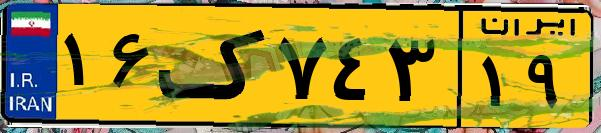1: (57, 26, 110, 100), (475, 38, 525, 113)
3: (385, 28, 445, 110)
4: (330, 28, 385, 110)
6: (110, 28, 158, 98)
7: (270, 28, 330, 110)
9: (525, 38, 570, 115)
ک: (158, 12, 270, 120)
